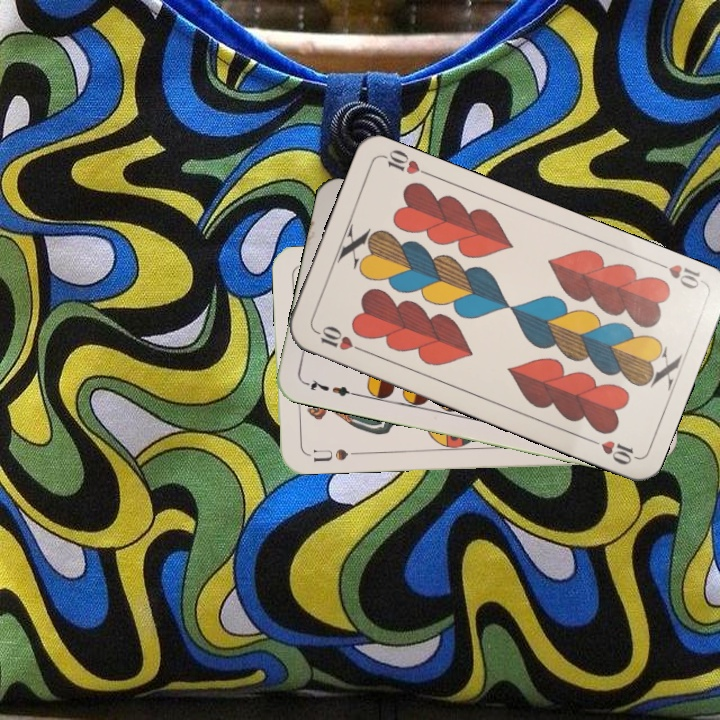E7: (300, 375, 359, 399)
H10: (650, 257, 703, 292), (311, 322, 367, 355)
SU: (309, 445, 362, 465)
